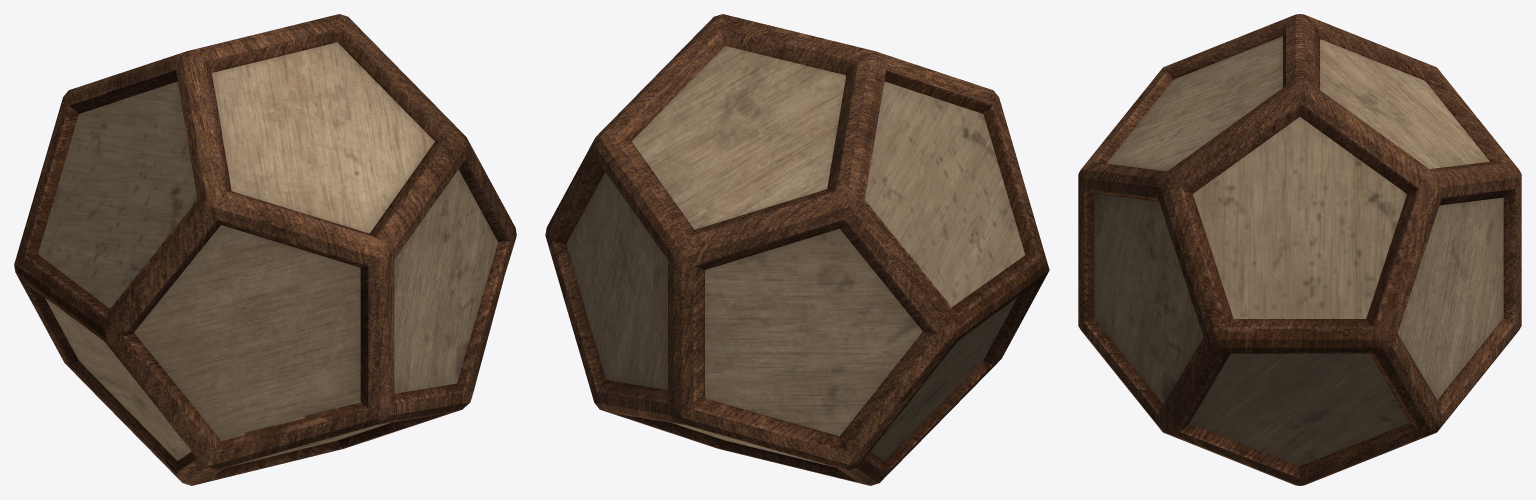
3 views of the same model, side by side, from view 1: azimuth 30°, elevation 25°; view 2: azimuth 150°, elevation 25°; view 3: azimuth 270°, elevation 25° (orthographic). The views are drawn at different scales.
Visible parts, largest first — view 1: polySurface3; view 2: polySurface3; view 3: polySurface3.
Boxes of the visible parts, x1,y1,x2,y2 form: polySurface3: (14,14,516,485); polySurface3: (545,14,1049,485); polySurface3: (1078,14,1521,485).
Size of the model in its own units: 0.0348 by 0.0348 by 0.0348.
1 material, 1 textured.
